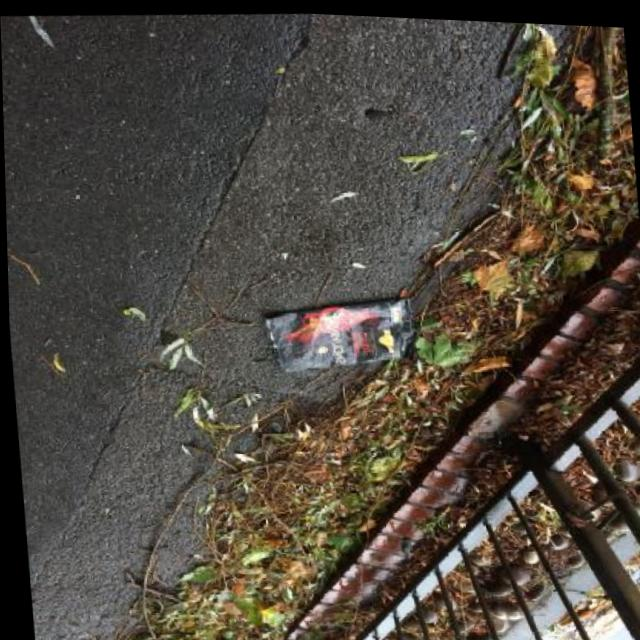plastic: (262, 289, 419, 381)
